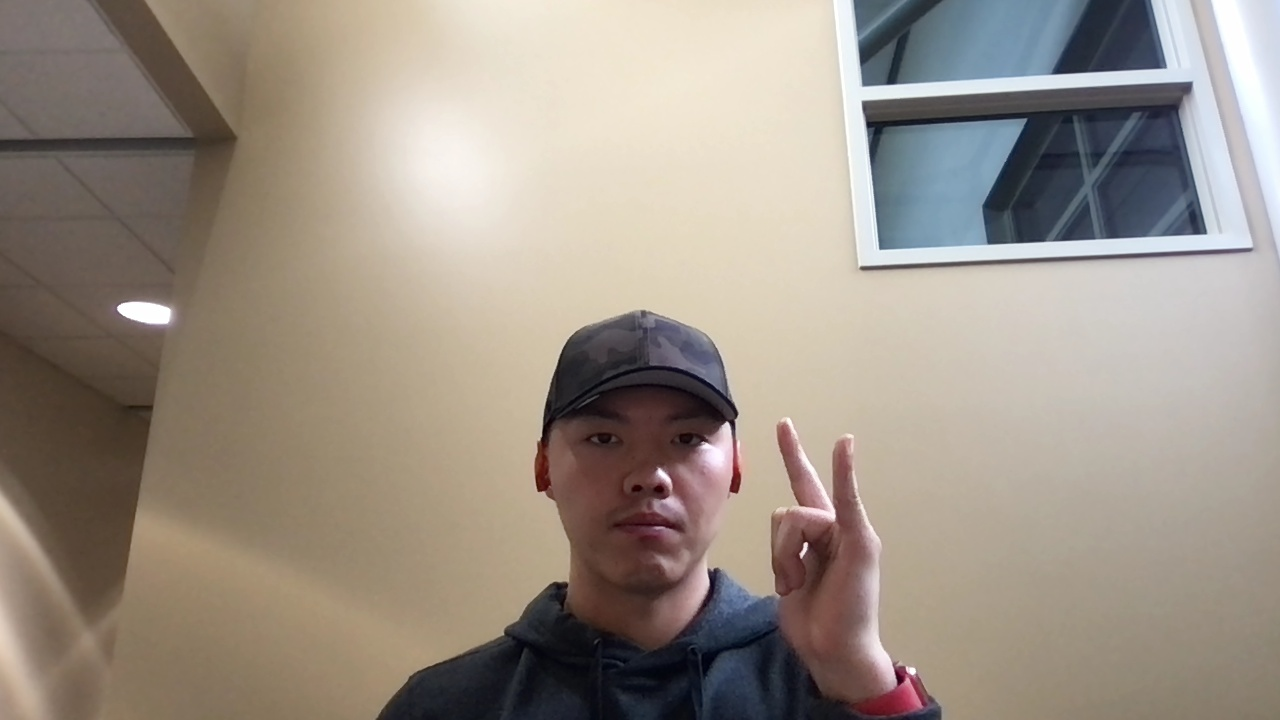I Love You: (764, 414, 888, 676)
